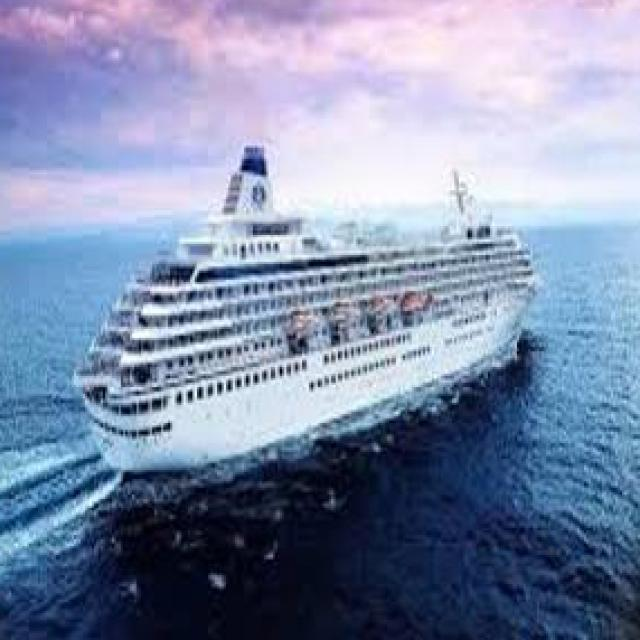passenger ship: (85, 139, 535, 471)
